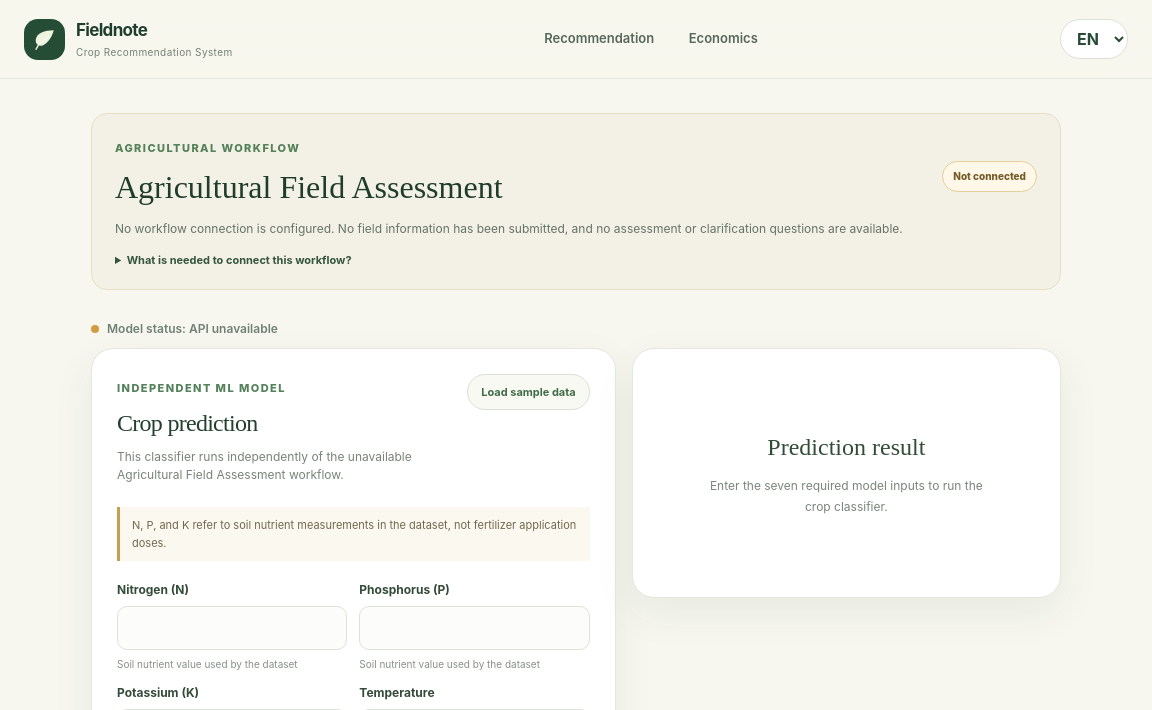
Scenario: Crop Recommendation website › loads the genuine project sample feature values
Click the button "Load sample data". click: (528, 392)
box: left=467, top=374, right=590, bottom=410
(page scrolled)
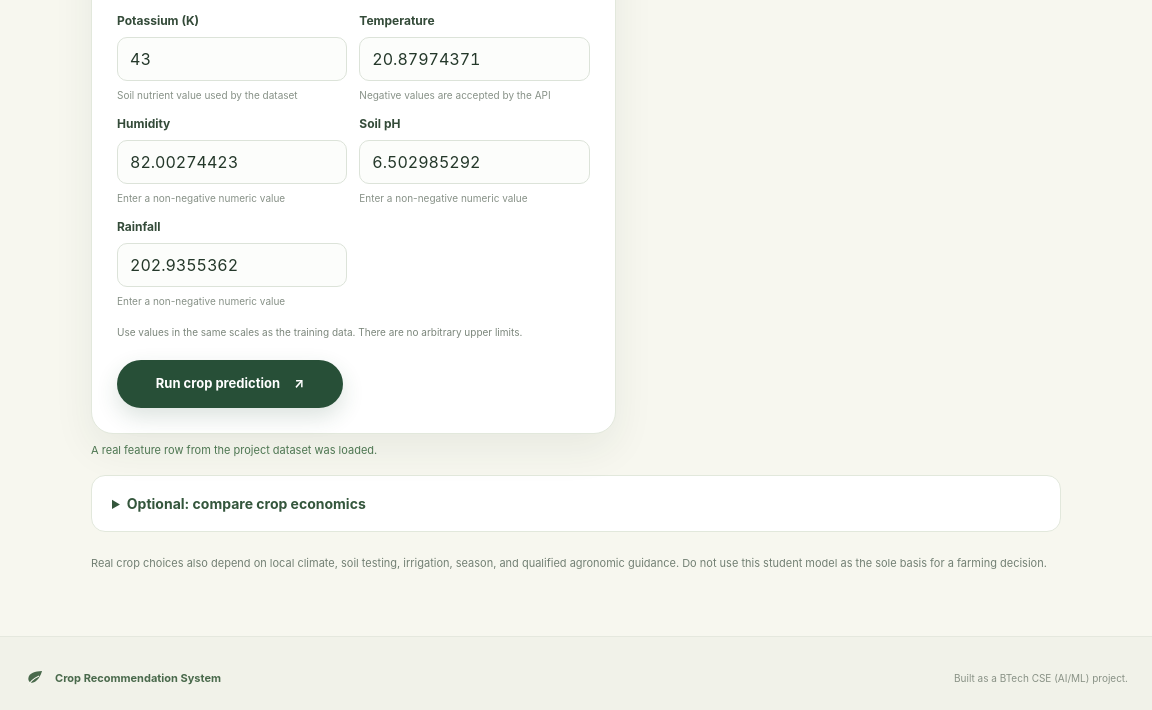
Check: the text "A real feature row from the project dataset was loaded." is shown, box left=91, top=443, right=377, bottom=457
